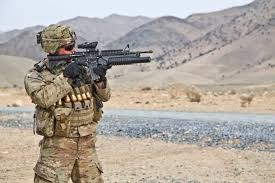gun: (45, 41, 154, 84)
